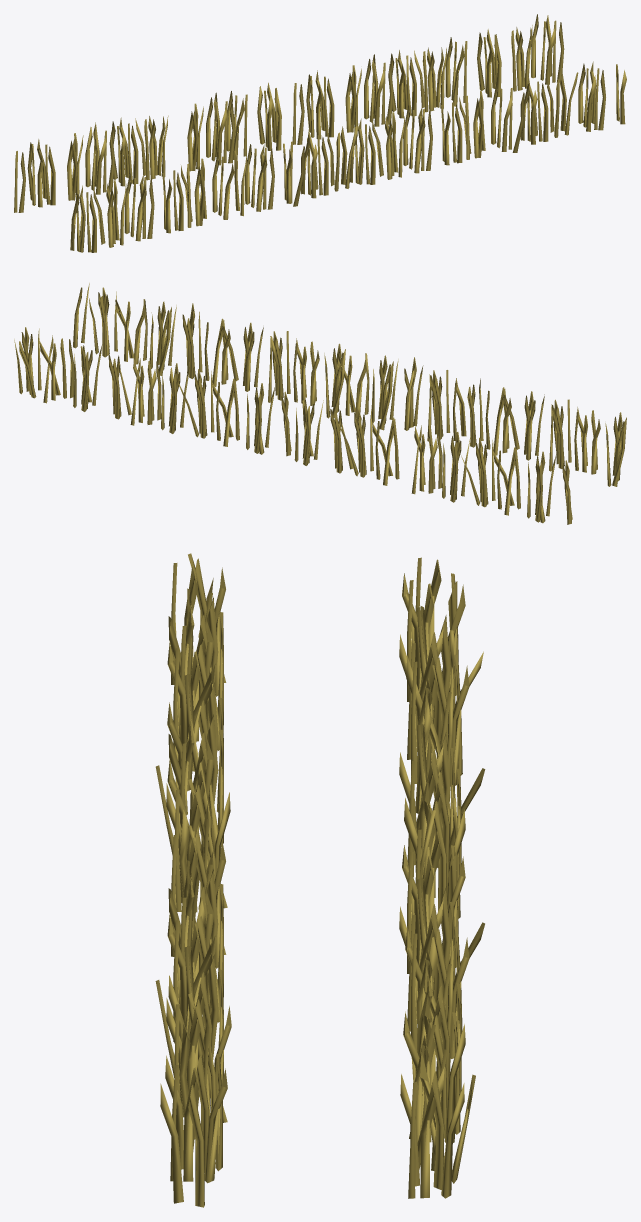
The model's file is Farm_FirstAge_Level1_Wheat.fbx.
3 renders of one model, top to bottom at view 1: azimuth 30°, elevation 25°; view 2: azimuth 150°, elevation 25°; view 3: azimuth 270°, elevation 25°, orthographic. The views are drawn at different scales.
Visible parts, largest first — view 1: High_Farm_FirstAge_Level1_Wheat, Low_Farm_FirstAge_Level1_Wheat; view 2: High_Farm_FirstAge_Level1_Wheat, Low_Farm_FirstAge_Level1_Wheat; view 3: High_Farm_FirstAge_Level1_Wheat, Low_Farm_FirstAge_Level1_Wheat.
Part boxes in pixels (<box>): High_Farm_FirstAge_Level1_Wheat: <box>14,14,626,252</box>; Low_Farm_FirstAge_Level1_Wheat: <box>16,35,619,251</box>; High_Farm_FirstAge_Level1_Wheat: <box>14,283,626,524</box>; Low_Farm_FirstAge_Level1_Wheat: <box>25,307,621,522</box>; High_Farm_FirstAge_Level1_Wheat: <box>155,553,485,1207</box>; Low_Farm_FirstAge_Level1_Wheat: <box>175,596,468,1198</box>.
Size of the model in its own units: 160 by 18.46 by 41.51.
